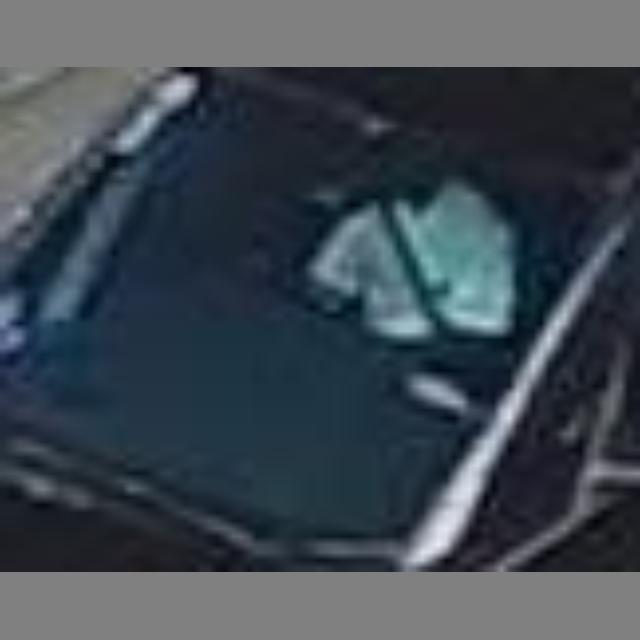pakai: (261, 146, 521, 415)
